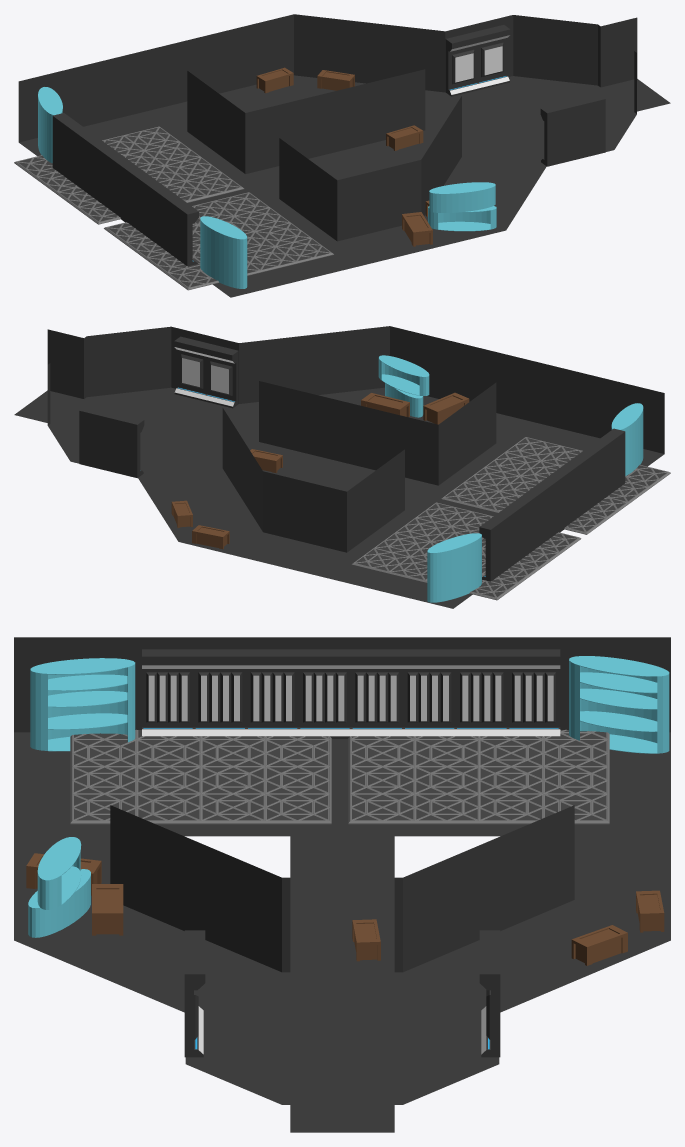
File: LeftShip2.fbx
The picture shows the model from 3 angles, top to bottom: view 1: azimuth 30°, elevation 25°; view 2: azimuth 150°, elevation 25°; view 3: azimuth 270°, elevation 25°; orthographic projection. The views are drawn at different scales.
Visible parts, largest first — view 1: LeftShip2.001-col, Plane.007-col.001, Plane.008-col, Shelving.001-col, Wall2.004-col, Wall2.001-col, ControlPanel.002-col.001, Wall2.003-col, Wall2.002-col, Wall1.001-col.001, ControlPanel.001-col.001, Shelving.002-col (+11 smaller); view 2: LeftShip2.001-col, Plane.007-col.001, Plane.008-col, Shelving.002-col, Wall2.001-col, Wall2.004-col, Wall2.002-col, Wall2.003-col, ControlPanel.002-col.001, Wall1.008-col.001, Shelving.001-col, Wall1.002-col.001 (+12 smaller); view 3: LeftShip2.001-col, Plane.008-col, Plane.007-col.001, Shelving.002-col, Shelving.001-col, Wall1.004-col.001, Wall1.002-col.001, Wall1.003-col.001, Wall1.005-col.001, Wall1.006-col.001, Wall1.007-col.001, Wall1.008-col.001 (+10 smaller).
Boxes of the visible parts, left/top/right/bottom form: LeftShip2.001-col: left=18, top=14, right=670, bottom=297; Plane.007-col.001: left=104, top=192, right=333, bottom=290; Plane.008-col: left=14, top=126, right=244, bottom=224; Shelving.001-col: left=200, top=216, right=247, bottom=288; Wall2.004-col: left=540, top=101, right=576, bottom=166; Wall2.001-col: left=445, top=32, right=481, bottom=96; ControlPanel.002-col.001: left=429, top=182, right=495, bottom=212; Wall2.003-col: left=570, top=94, right=605, bottom=159; Wall2.002-col: left=475, top=25, right=510, bottom=89; Wall1.001-col.001: left=170, top=199, right=198, bottom=266; ControlPanel.001-col.001: left=428, top=206, right=496, bottom=231; Shelving.002-col: left=38, top=87, right=62, bottom=163; LeftShip2.001-col: left=14, top=326, right=664, bottom=608; Plane.007-col.001: left=441, top=437, right=670, bottom=534; Plane.008-col: left=351, top=502, right=581, bottom=600; Shelving.002-col: left=427, top=533, right=481, bottom=602; Wall2.001-col: left=108, top=413, right=144, bottom=478; Wall2.004-col: left=203, top=343, right=238, bottom=408; Wall2.002-col: left=79, top=406, right=114, bottom=470; Wall2.003-col: left=174, top=336, right=208, bottom=400; ControlPanel.002-col.001: left=378, top=355, right=429, bottom=395; Wall1.008-col.001: left=479, top=515, right=507, bottom=581; Shelving.001-col: left=611, top=403, right=643, bottom=475; Wall1.002-col.001: left=580, top=441, right=608, bottom=507; LeftShip2.001-col: left=14, top=637, right=670, bottom=1132; Plane.008-col: left=348, top=729, right=609, bottom=824; Plane.007-col.001: left=70, top=729, right=331, bottom=824; Shelving.002-col: left=569, top=656, right=669, bottom=753; Shelving.001-col: left=30, top=658, right=135, bottom=751; Wall1.004-col.001: left=298, top=649, right=350, bottom=738; Wall1.002-col.001: left=194, top=649, right=246, bottom=736; Wall1.003-col.001: left=246, top=649, right=298, bottom=736; Wall1.005-col.001: left=351, top=649, right=403, bottom=736; Wall1.006-col.001: left=403, top=649, right=455, bottom=736; Wall1.007-col.001: left=455, top=649, right=507, bottom=736; Wall1.008-col.001: left=508, top=649, right=560, bottom=736.
Size of the model in its own units: 3791 by 427 by 2513.
